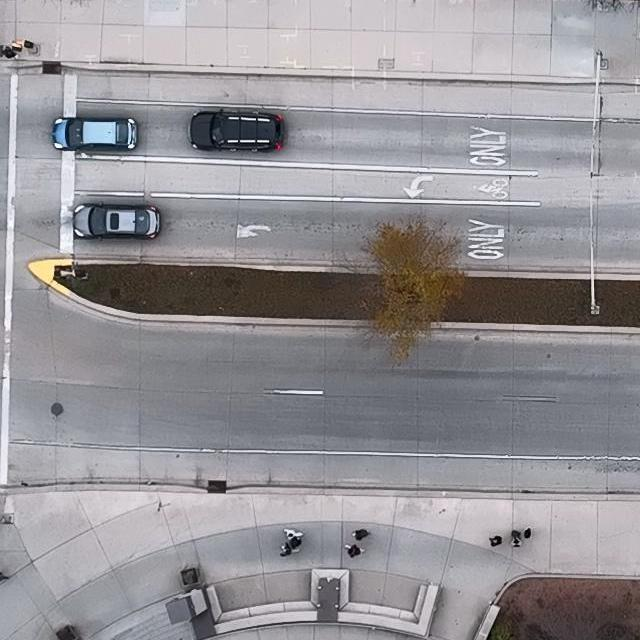car: (190, 109, 284, 153), (72, 200, 160, 241), (52, 117, 138, 150)
